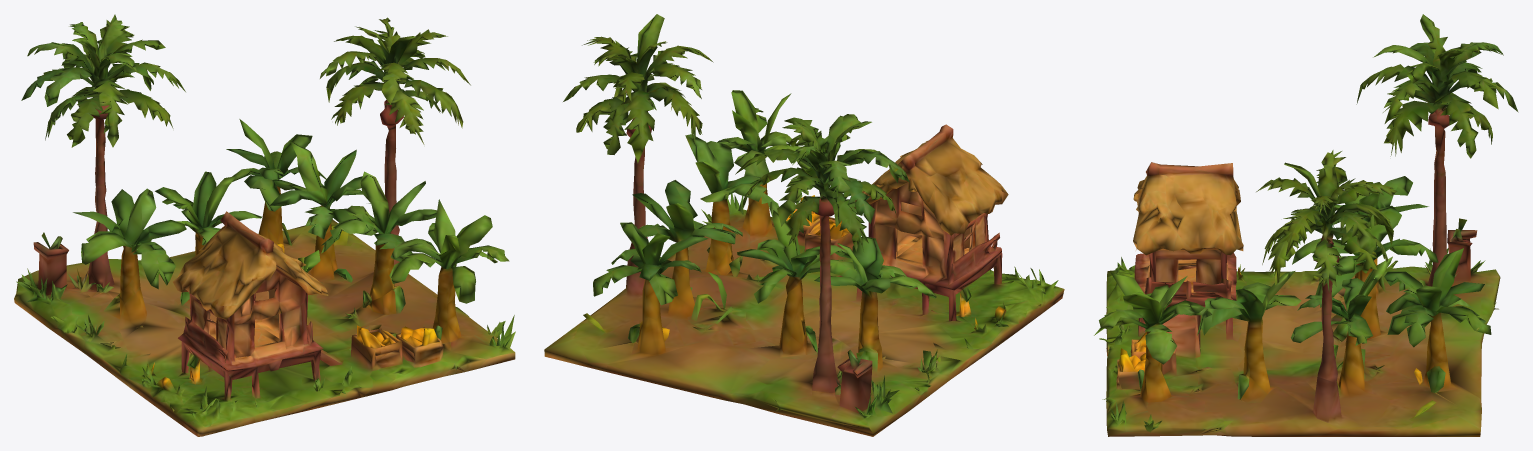
Rendered from prop_plantation.glb.
3 renders of one model, left to right at view 1: azimuth 30°, elevation 25°; view 2: azimuth 150°, elevation 25°; view 3: azimuth 270°, elevation 25°, orthographic. The views are drawn at different scales.
Visible parts, largest first — view 1: tripo_node_13912a79-c4c3-4410-9f36-06e4dbc7899a; view 2: tripo_node_13912a79-c4c3-4410-9f36-06e4dbc7899a; view 3: tripo_node_13912a79-c4c3-4410-9f36-06e4dbc7899a.
Part boxes in pixels (<box>): tripo_node_13912a79-c4c3-4410-9f36-06e4dbc7899a: <box>14,14,515,436</box>; tripo_node_13912a79-c4c3-4410-9f36-06e4dbc7899a: <box>544,14,1064,436</box>; tripo_node_13912a79-c4c3-4410-9f36-06e4dbc7899a: <box>1094,14,1518,436</box>.
Size of the model in its own units: 0.9792 by 0.6991 by 0.959.
Materials: 1 (1 with a texture image).
